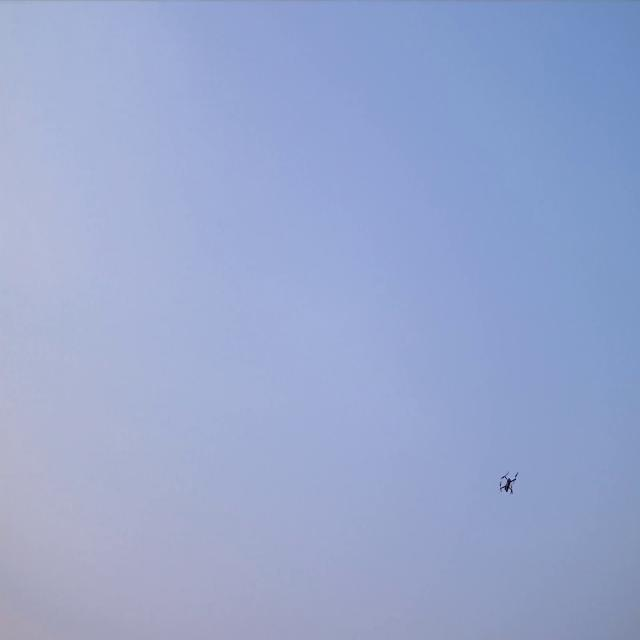UAV: (500, 474, 516, 492)
